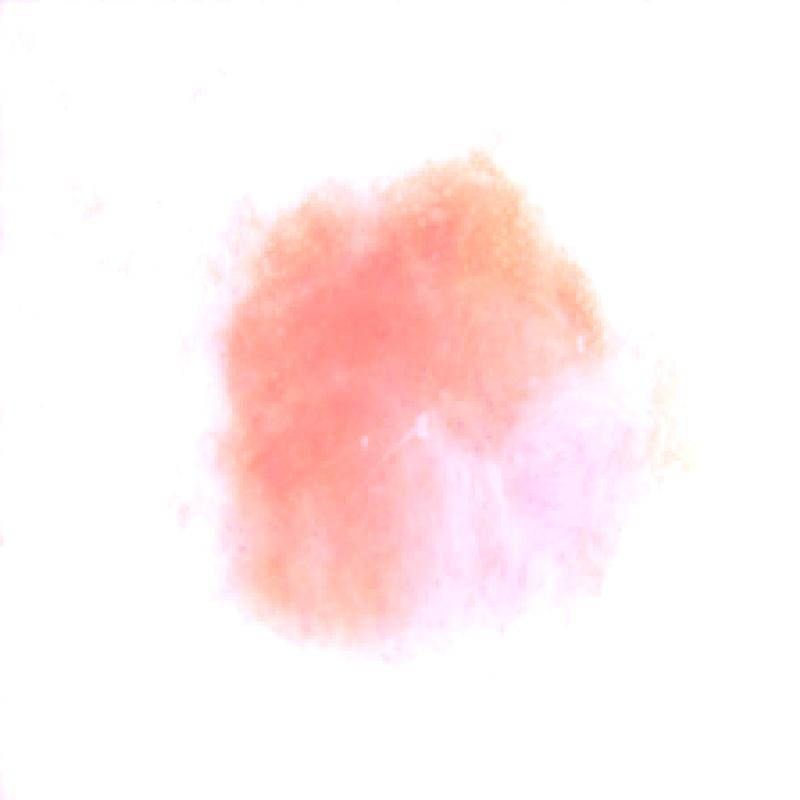benign: (214, 133, 710, 669)
